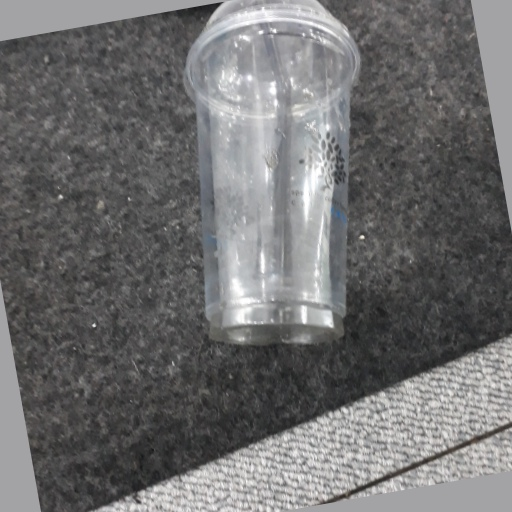Plastic_2: (182, 2, 365, 345)
